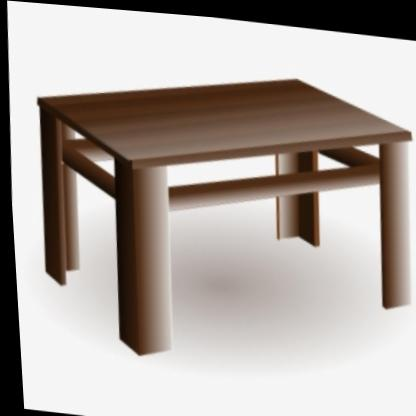Table: (15, 31, 416, 398)
